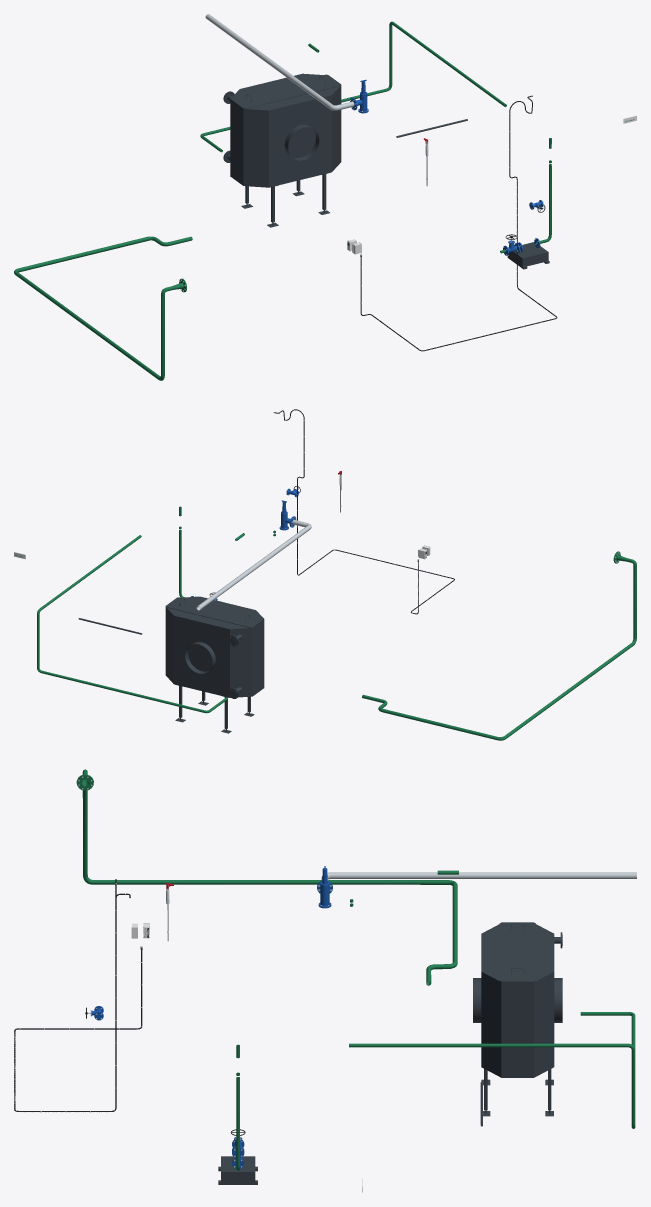
File: s4000-2-BDSvdLfu.glb
3 views of the same model, one above another, from view 1: azimuth 30°, elevation 25°; view 2: azimuth 150°, elevation 25°; view 3: azimuth 270°, elevation 25° (orthographic). The views are drawn at different scales.
Parts seen in each view (by area): view 1: EQS2-5000 CAD 0, EQS2-5000 CAD 3, deaerator_feed / green, EQS2-5000 CAD 1, to_economizer / green, safety_vent_2 / steel, wiring_pressure_transmitter / black, pump_branch_1 / dark; view 2: EQS2-5000 CAD 0, EQS2-5000 CAD 3, deaerator_feed / green, EQS2-5000 CAD 2, to_economizer / green, safety_vent_2 / steel, wiring_pressure_transmitter / black; view 3: EQS2-5000 CAD 3, deaerator_feed / green, to_economizer / green, safety_vent_2 / steel, EQS2-5000 CAD 0, wiring_pressure_transmitter / black, pump_branch_1 / dark.
Part boxes in pixels (x1=…): EQS2-5000 CAD 0: x1=241, y1=95, x2=331, y2=227; EQS2-5000 CAD 3: x1=230, y1=73, x2=341, y2=185; deaerator_feed / green: x1=14, y1=236, x2=192, y2=380; EQS2-5000 CAD 1: x1=243, y1=109, x2=268, y2=187; to_economizer / green: x1=200, y1=21, x2=506, y2=152; safety_vent_2 / steel: x1=205, y1=14, x2=354, y2=110; wiring_pressure_transmitter / black: x1=360, y1=96, x2=556, y2=351; pump_branch_1 / dark: x1=507, y1=242, x2=549, y2=269; EQS2-5000 CAD 0: x1=174, y1=615, x2=254, y2=733; EQS2-5000 CAD 3: x1=165, y1=596, x2=264, y2=695; deaerator_feed / green: x1=362, y1=551, x2=636, y2=740; EQS2-5000 CAD 2: x1=228, y1=628, x2=252, y2=698; to_economizer / green: x1=37, y1=535, x2=227, y2=713; safety_vent_2 / steel: x1=196, y1=519, x2=311, y2=610; wiring_pressure_transmitter / black: x1=275, y1=409, x2=454, y2=614; EQS2-5000 CAD 3: x1=481, y1=922, x2=554, y2=1077; deaerator_feed / green: x1=76, y1=769, x2=457, y2=985; to_economizer / green: x1=349, y1=1012, x2=635, y2=1128; safety_vent_2 / steel: x1=321, y1=872, x2=636, y2=880; EQS2-5000 CAD 0: x1=473, y1=934, x2=562, y2=1116; wiring_pressure_transmitter / black: x1=14, y1=879, x2=142, y2=1111; pump_branch_1 / dark: x1=218, y1=1156, x2=257, y2=1184.
Bounding box in the file's own units: 9.48 × 3.24 × 7.03.
